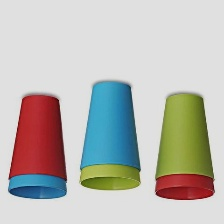glass: (71, 78, 147, 193), (150, 89, 221, 209), (4, 92, 71, 202)
